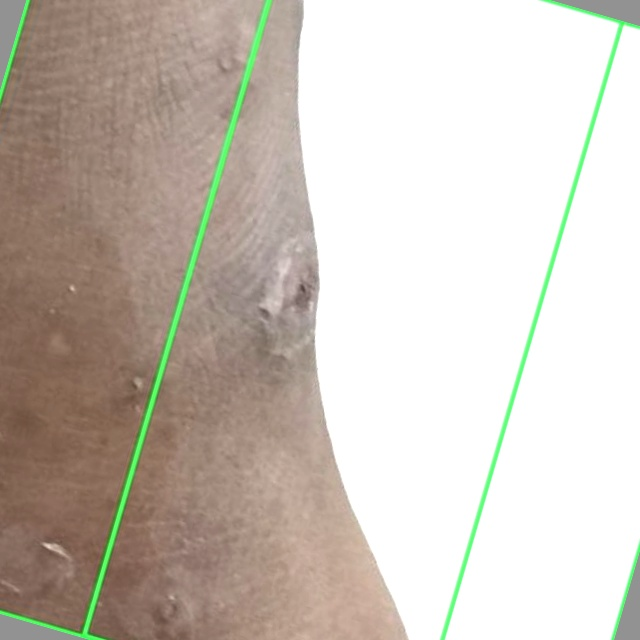Eczema: (0, 0, 622, 639), (82, 0, 639, 639)
